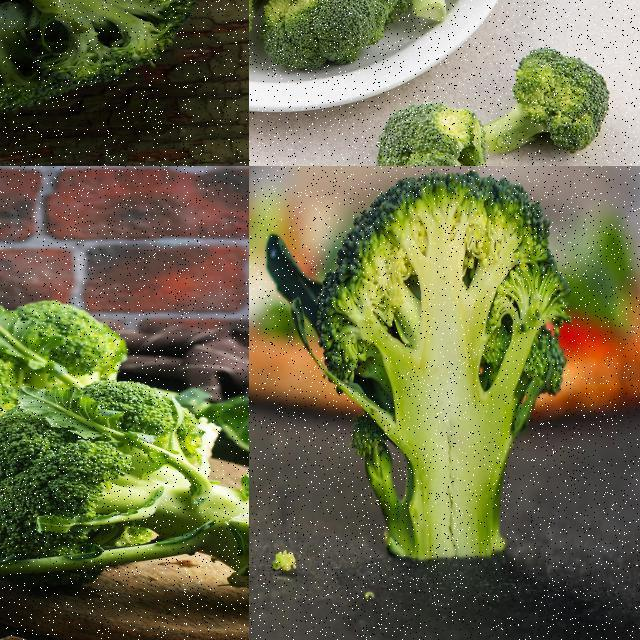broccoli: (291, 166, 571, 571), (0, 380, 248, 619), (0, 0, 208, 126), (0, 295, 131, 461), (249, 0, 489, 66), (483, 49, 612, 160), (379, 99, 511, 165)
